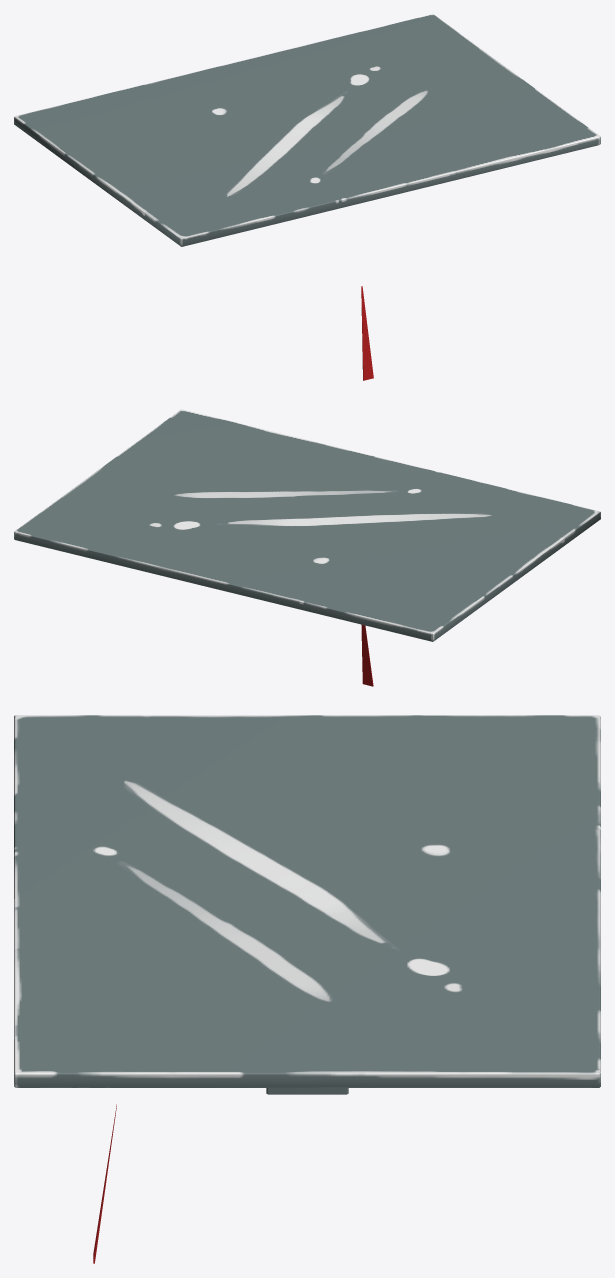
The model's file is Scale_BadEnd.fbx.
3 views of the same model, one above another, from view 1: azimuth 30°, elevation 25°; view 2: azimuth 150°, elevation 25°; view 3: azimuth 270°, elevation 25° (orthographic). The views are drawn at different scales.
Visible parts, largest first — view 1: model2:weigher, model2:ticker; view 2: model2:weigher, model2:ticker; view 3: model2:weigher.
Part boxes in pixels (x1,y1,x2,y2): model2:weigher: [14, 14, 600, 246]; model2:ticker: [361, 286, 373, 380]; model2:weigher: [14, 409, 600, 641]; model2:ticker: [361, 624, 373, 686]; model2:weigher: [14, 715, 600, 1094].
Size of the model in its own units: 132 by 62.78 by 91.41.
